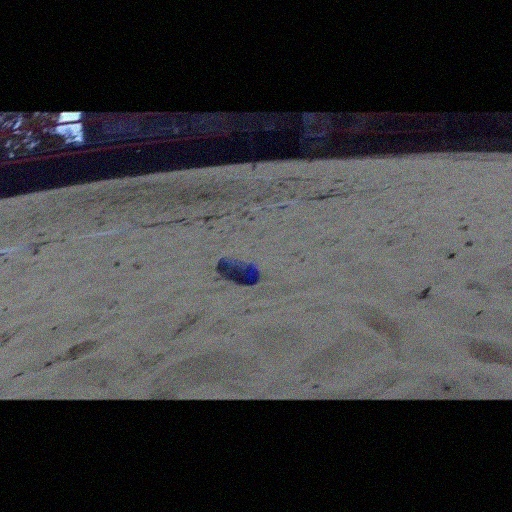bottle: (216, 257, 262, 287)
